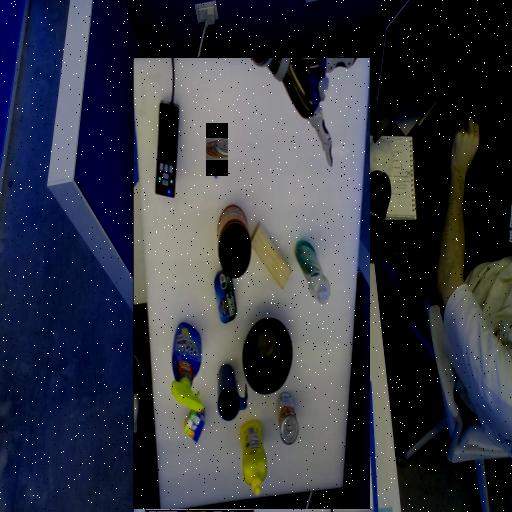bowl: (212, 174, 261, 249)
cleanser: (174, 264, 209, 326)
coffee_can: (253, 310, 286, 342)
jaco: (145, 404, 253, 509)
meat_can: (267, 244, 289, 296)
mug: (257, 147, 286, 202)
mustard_bottle: (238, 73, 263, 146)
rubik: (299, 132, 320, 153)
soup_can: (206, 138, 227, 159)
windex: (302, 185, 333, 215)
wooden_block: (212, 292, 253, 332)
workspace: (134, 58, 370, 509)
